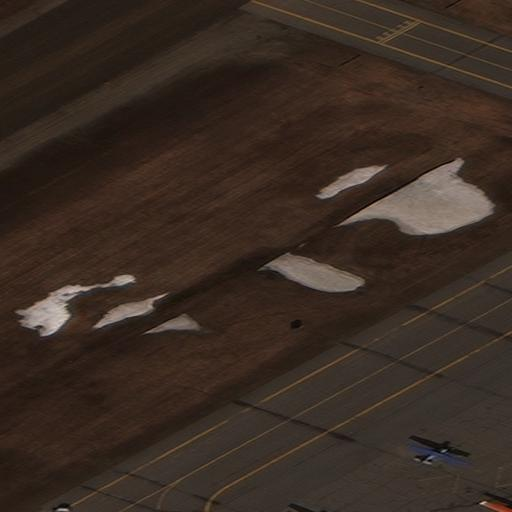Small Civil Transport: (409, 443, 468, 463), (478, 500, 512, 512)
